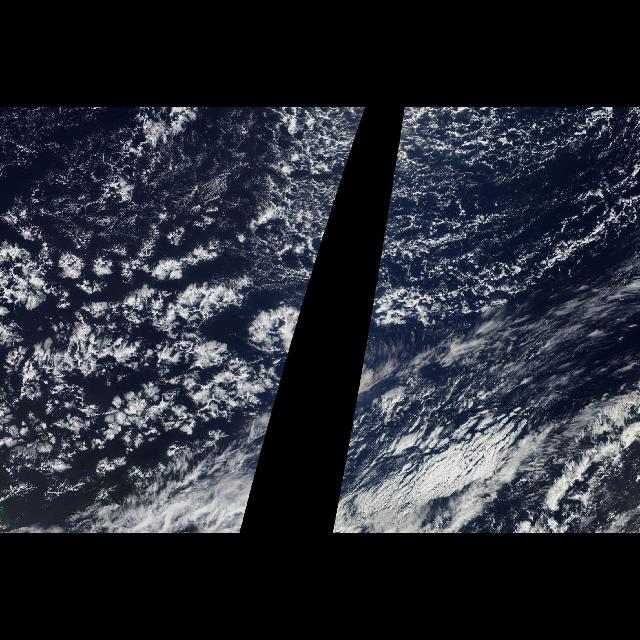Flower: (12, 266, 220, 460)
Gravel: (376, 109, 634, 279), (262, 108, 368, 280)
Sugar: (6, 194, 280, 462)
